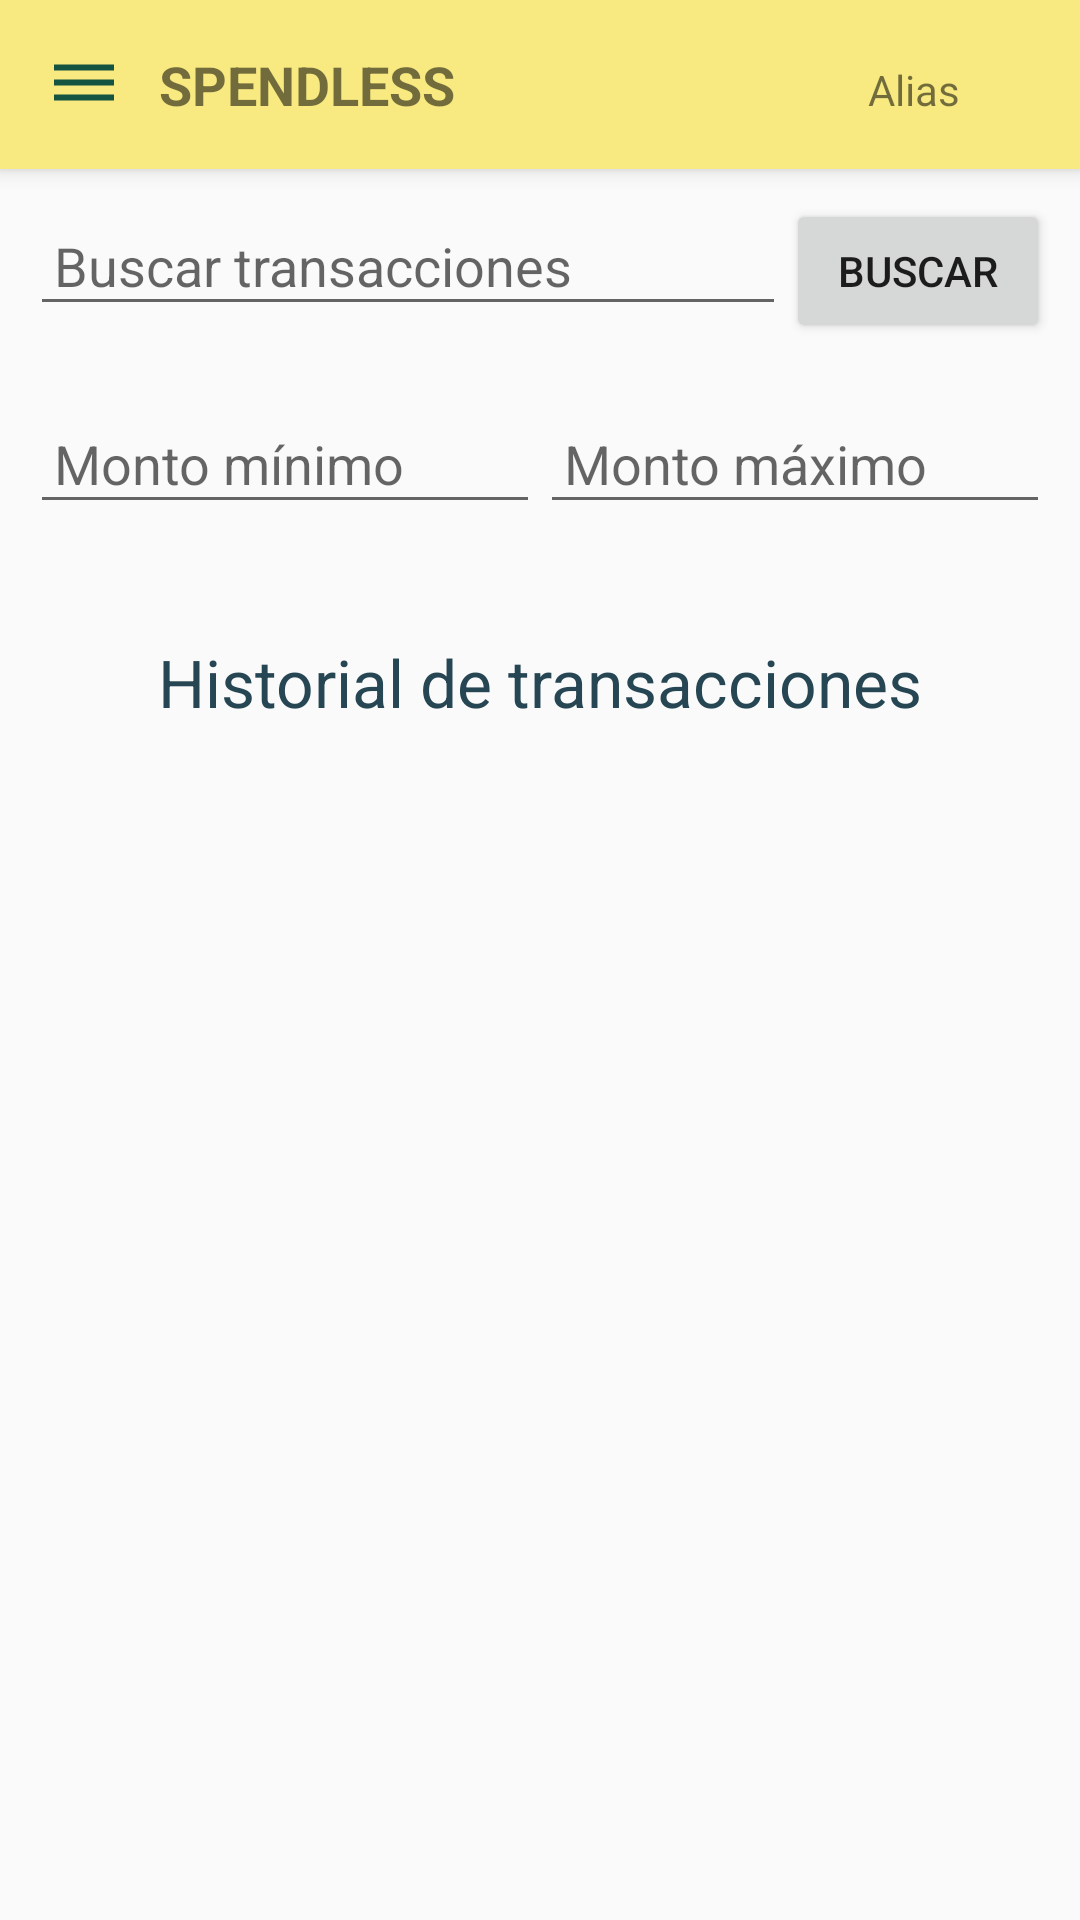

Screen size 1080px x 1920px. Icon name, then its box in pixels as bbox=[x1, y1, x2, y2]:
Menú: bbox=[54, 64, 114, 101]
